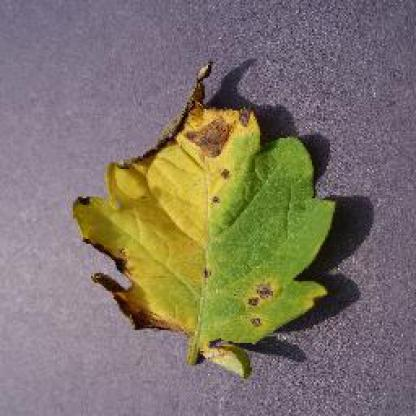bad leaf: (71, 56, 358, 386)
